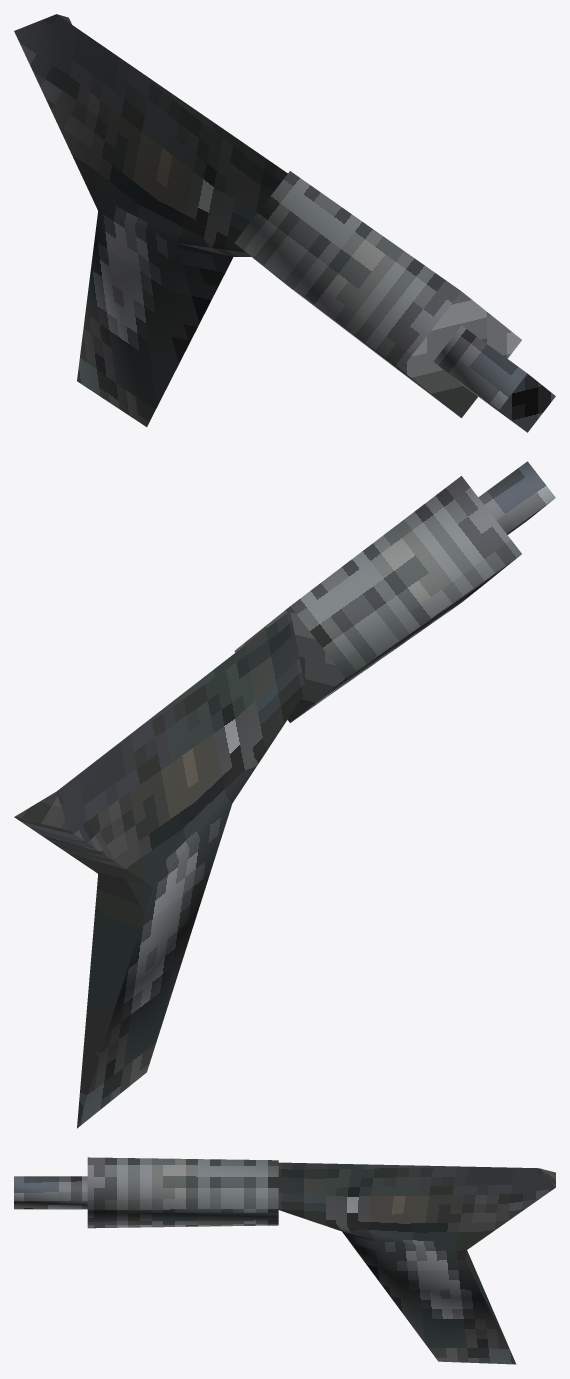
Rendered from wp_pistol_deathhammer_l2.fbx.
3 renders of one model, top to bottom at view 1: azimuth 30°, elevation 25°; view 2: azimuth 150°, elevation 25°; view 3: azimuth 270°, elevation 25°, orthographic. The views are drawn at different scales.
Visible parts, largest first — view 1: mesh_node; view 2: mesh_node; view 3: mesh_node.
Part boxes in pixels (x1,y1,x2,y2): mesh_node: (14, 14, 555, 432); mesh_node: (14, 461, 555, 1128); mesh_node: (14, 1157, 555, 1364).
Size of the model in its own units: 0.0508 by 0.1484 by 0.352.
